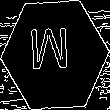M_S: (33, 29, 77, 81)
